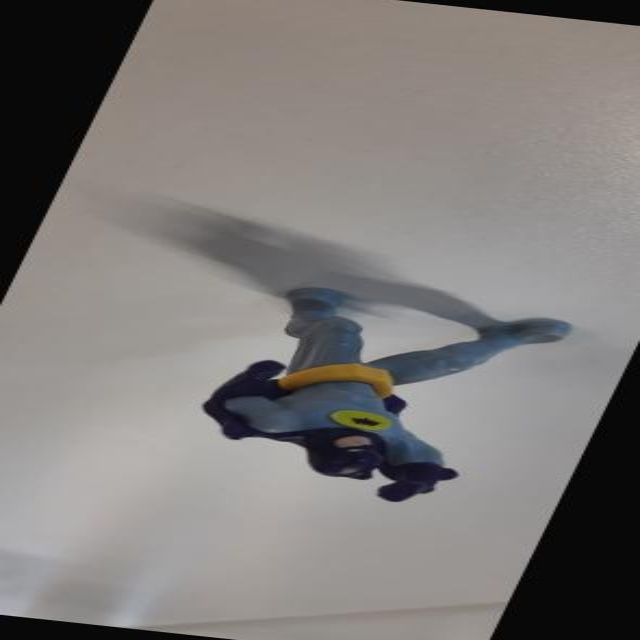Batman: (86, 229, 602, 527)
